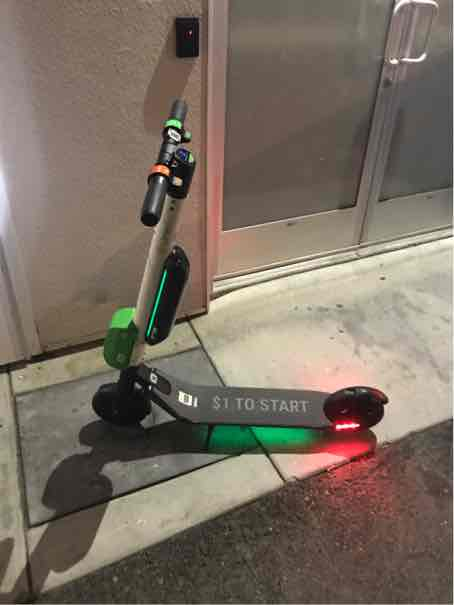scooter: (84, 96, 398, 449)
